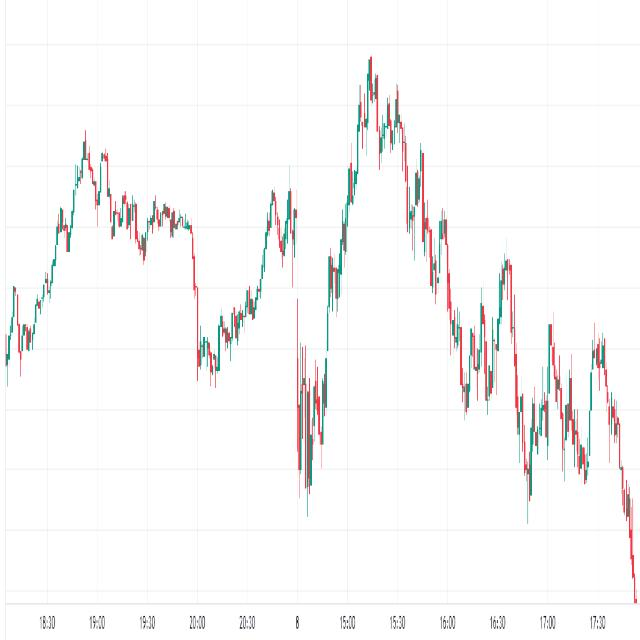Falling-Wedge: (299, 14, 634, 541)
